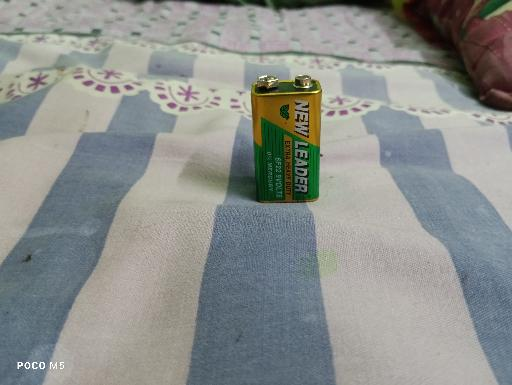Battery: (251, 75, 323, 204)
